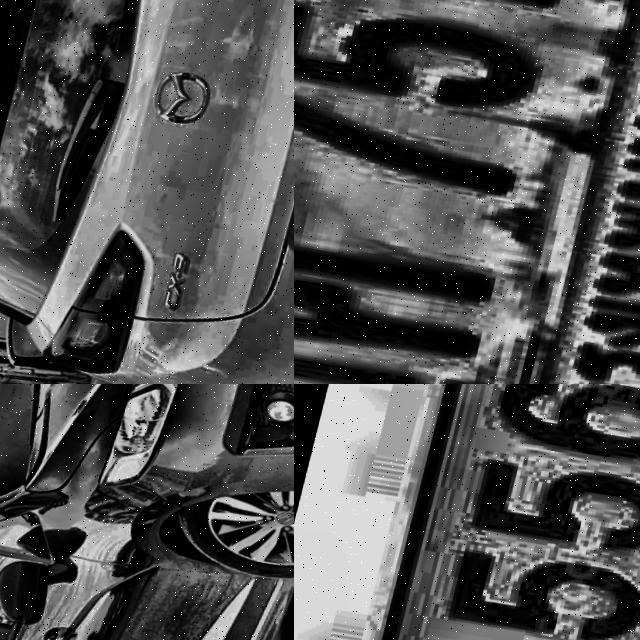license-plate: (294, 0, 640, 384), (309, 384, 640, 640)
